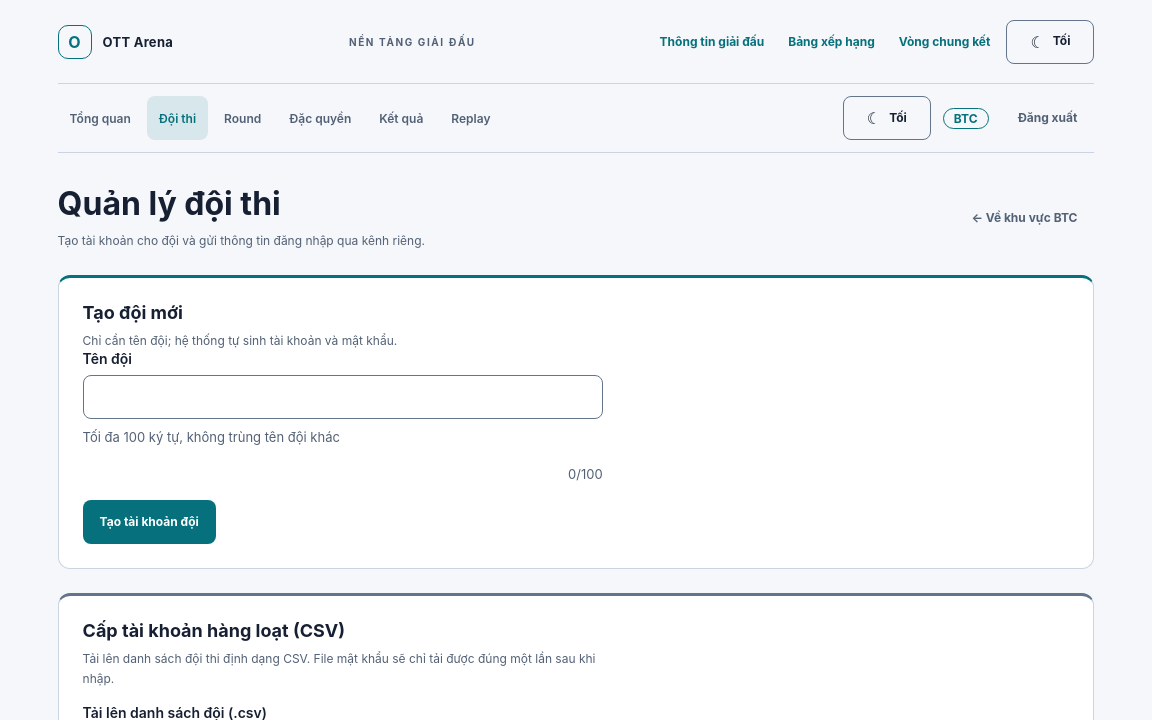
Test case: admin teams UI › renders the three named cards, create help and counter
expect the heading "Tạo đội mới" is shown: met, box [83, 302, 183, 323]
expect the heading "Cấp tài khoản hàng loạt (CSV)" is shown: met, box [83, 620, 345, 641]
Type "Gamma" into the field labelled "Tên đội" at (343, 397), box [83, 375, 603, 419]
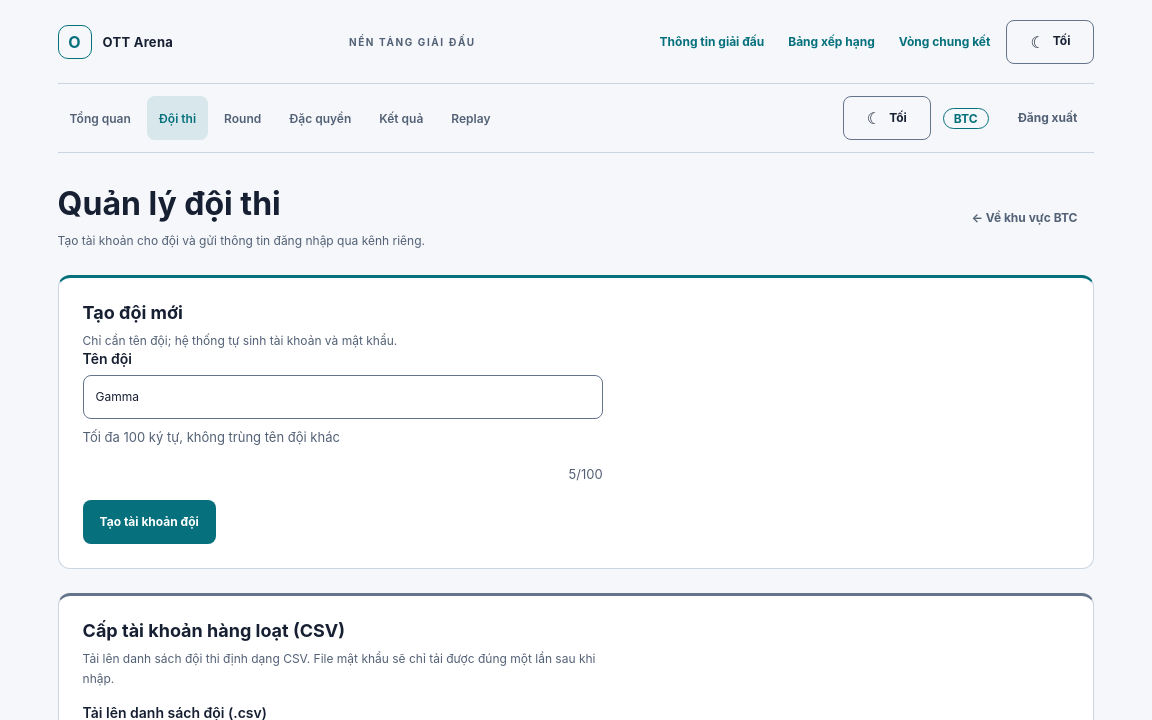
expect the text "5/100" is shown: met, box [568, 466, 603, 482]
